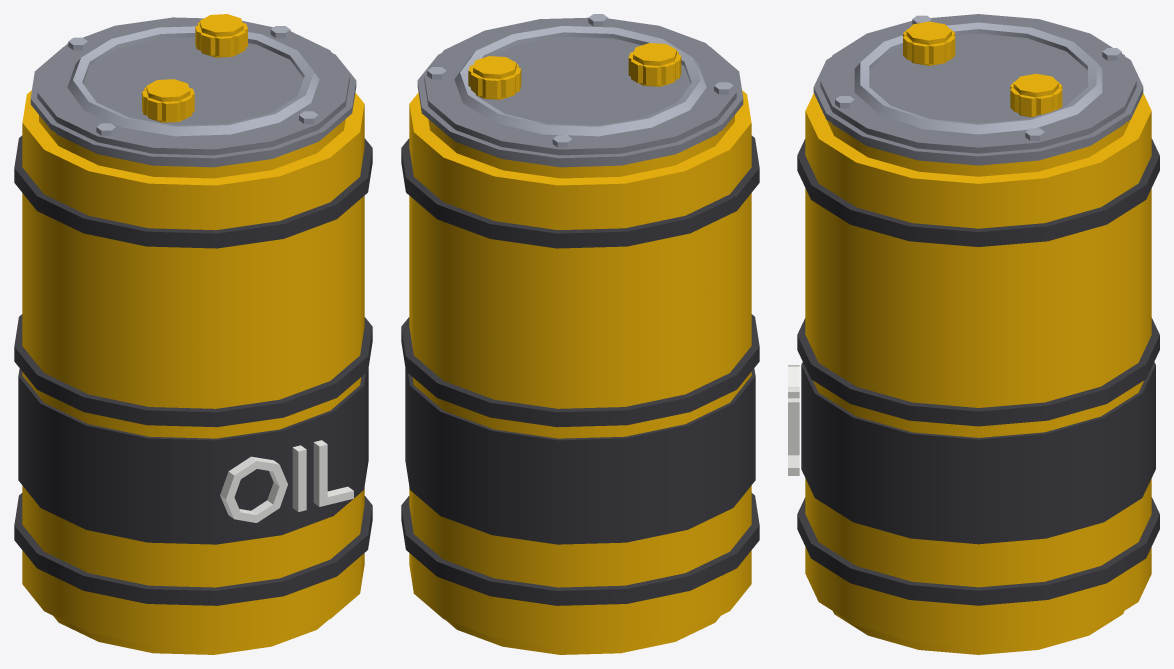
File: oil_drum_yellow.fbx
The picture shows the model from 3 angles, left to right: view 1: azimuth 30°, elevation 25°; view 2: azimuth 150°, elevation 25°; view 3: azimuth 270°, elevation 25°; orthographic projection.
Visible parts, largest first — view 1: oil_drum_yellow; view 2: oil_drum_yellow; view 3: oil_drum_yellow.
Boxes of the visible parts, <box> form: oil_drum_yellow: <box>14,14,372,654</box>; oil_drum_yellow: <box>401,14,759,654</box>; oil_drum_yellow: <box>788,14,1159,654</box>.
Bounding box in the file's own units: 2.2 × 3.57 × 2.26.
